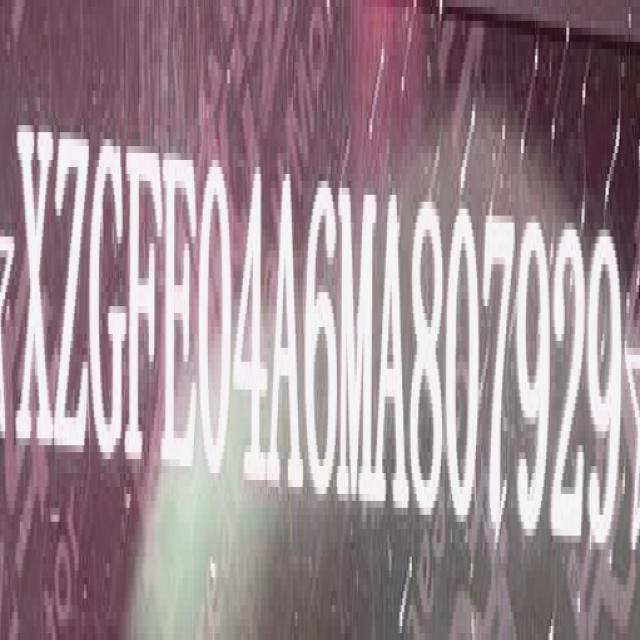0: (447, 205, 482, 534), (200, 155, 234, 487)
2: (550, 222, 586, 552)
4: (233, 162, 268, 494)
6: (303, 178, 340, 501)
7: (483, 206, 515, 536)
8: (411, 202, 445, 520)
9: (516, 220, 551, 546), (589, 233, 624, 557)
A: (376, 190, 412, 516), (270, 170, 302, 499)
E: (162, 148, 199, 486)
F: (128, 139, 164, 483)
G: (90, 129, 128, 471)
M: (340, 184, 377, 508)
X: (18, 112, 53, 456)
Z: (54, 126, 88, 466)
